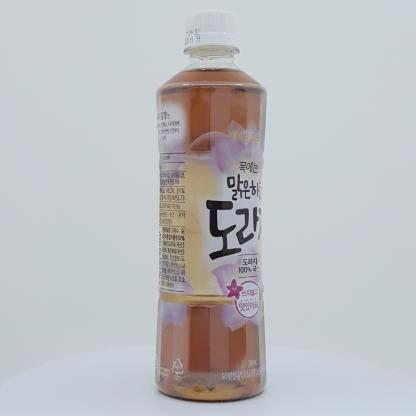------------500ML: (155, 9, 268, 403)
